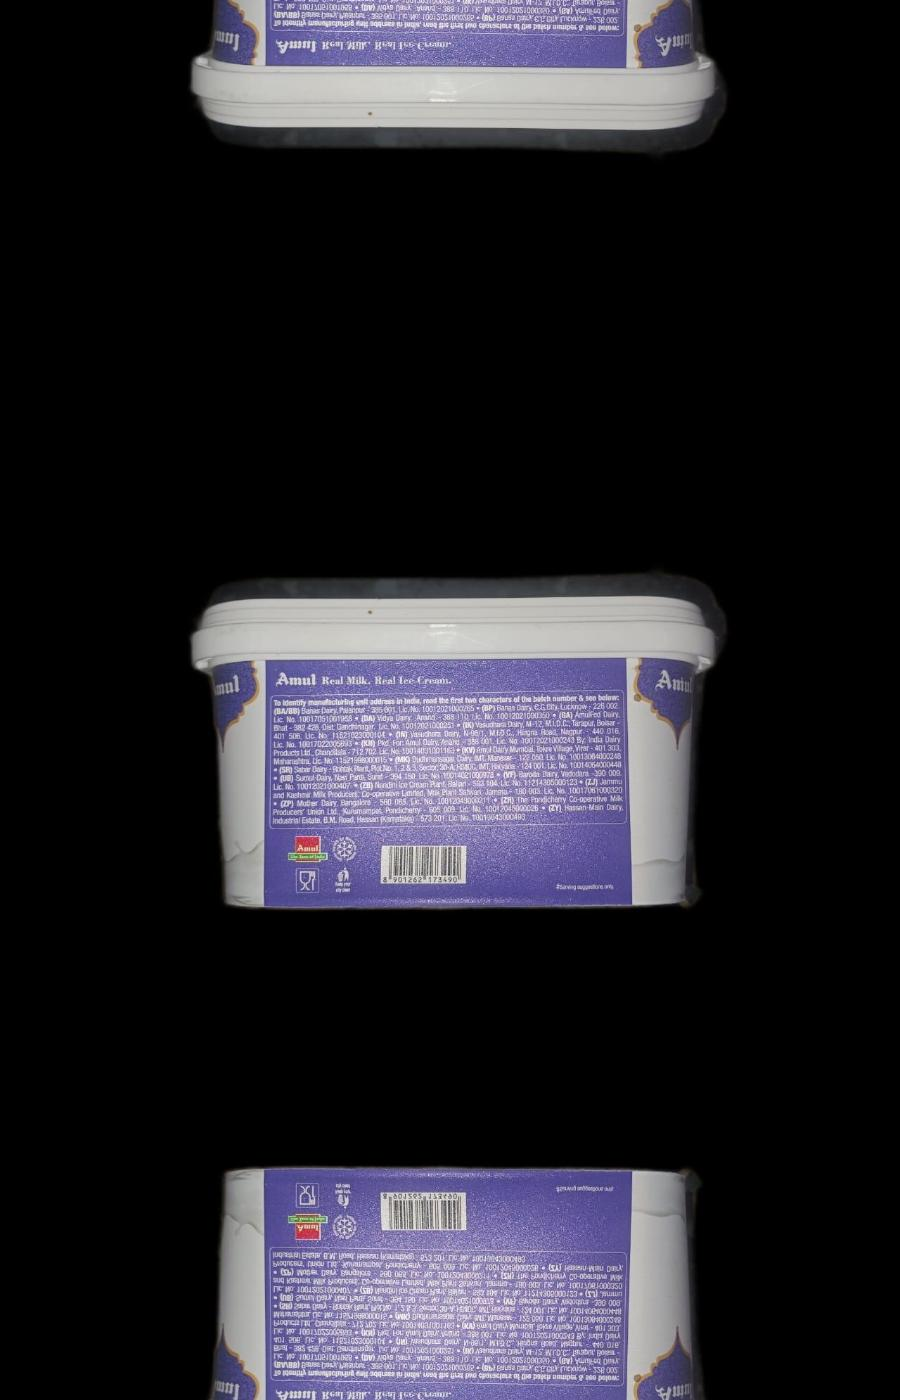Amul Ice Cream - Vanilla Magic 1 L Tub: (191, 584, 715, 910), (190, 1164, 715, 1400), (190, 0, 715, 140)
